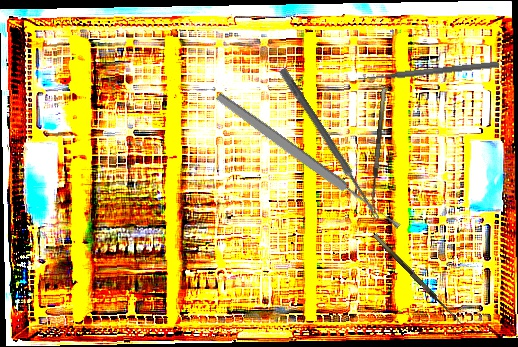Hook Surgical: (373, 229, 470, 329), (368, 88, 393, 219)
Pusher: (357, 59, 500, 84)
Surgical Spoon: (214, 90, 403, 233), (277, 67, 383, 222)
